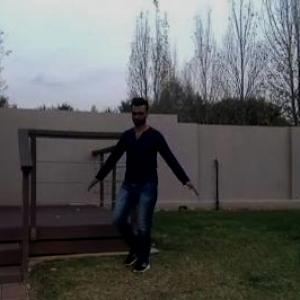land: (86, 96, 200, 290)
